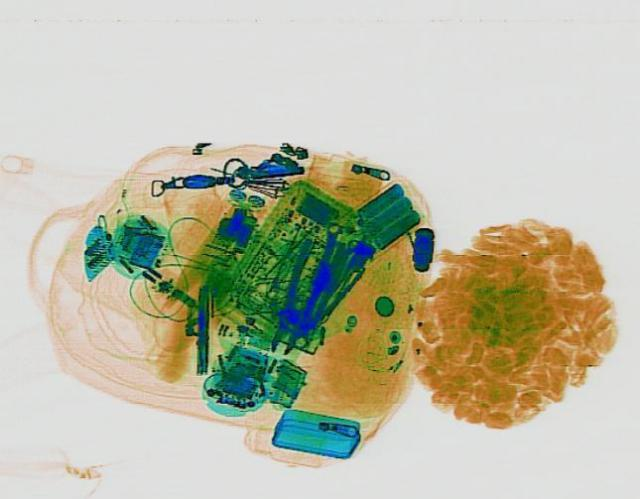Pliers: (252, 236, 354, 359)
Wrench: (288, 220, 342, 347)
